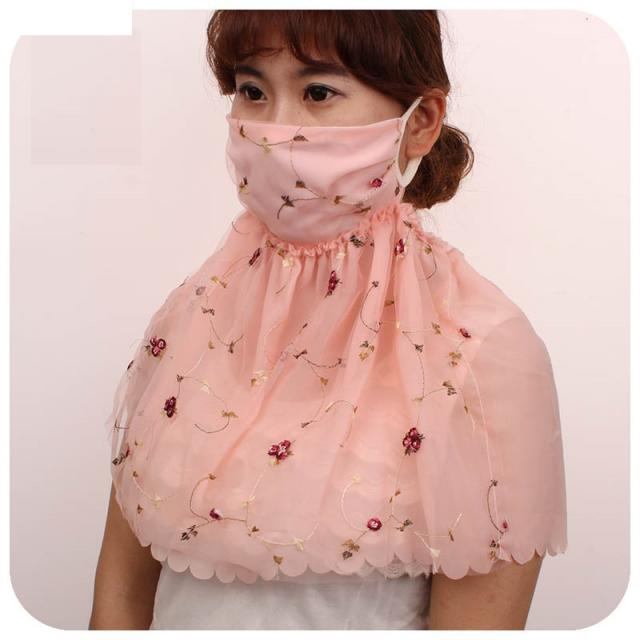mask: (228, 13, 398, 235)
